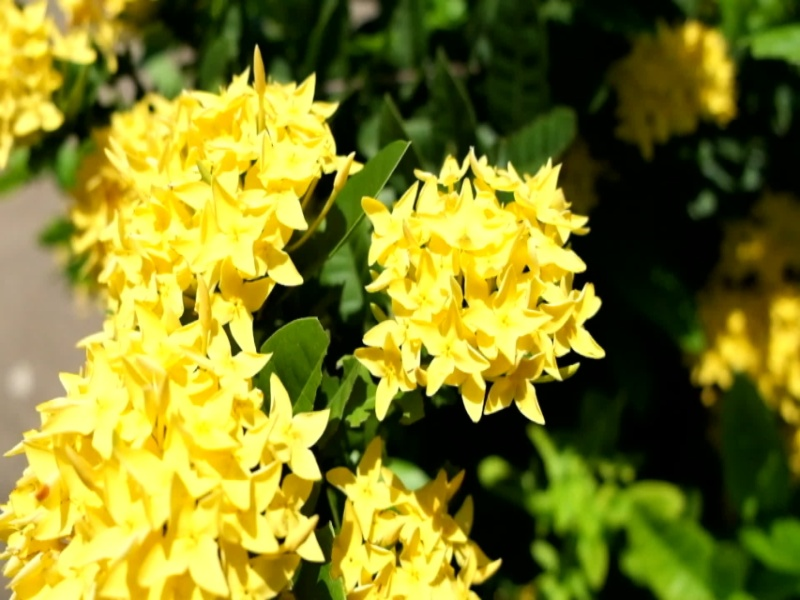Ixora: (1, 291, 336, 600), (342, 130, 620, 437), (68, 48, 346, 355)
